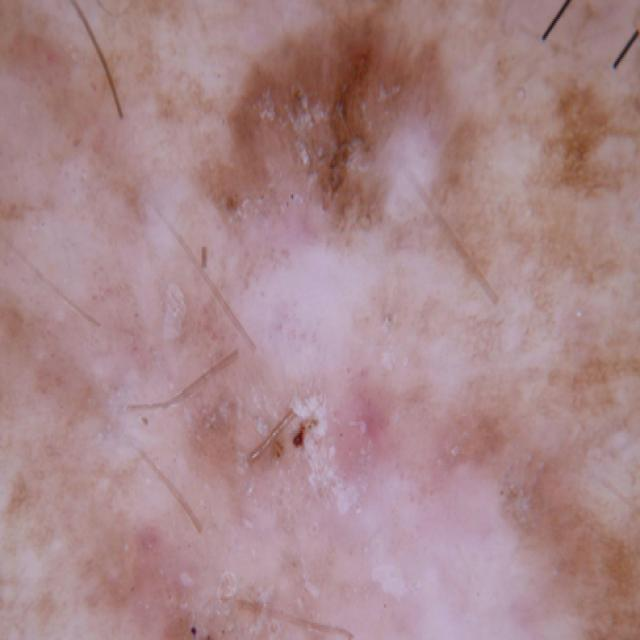Carcinoma: (175, 46, 559, 389), (7, 488, 360, 640)
